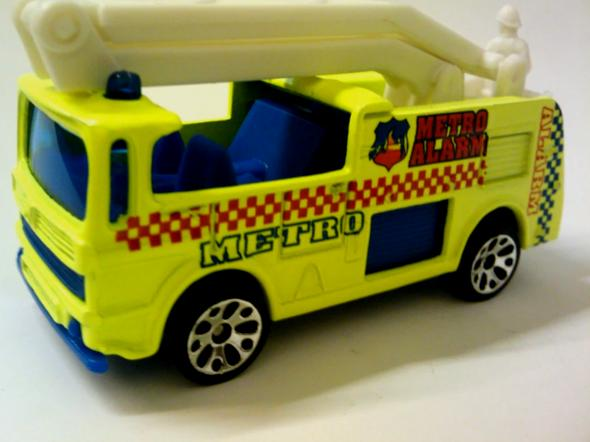toy-car: (10, 0, 565, 386)
